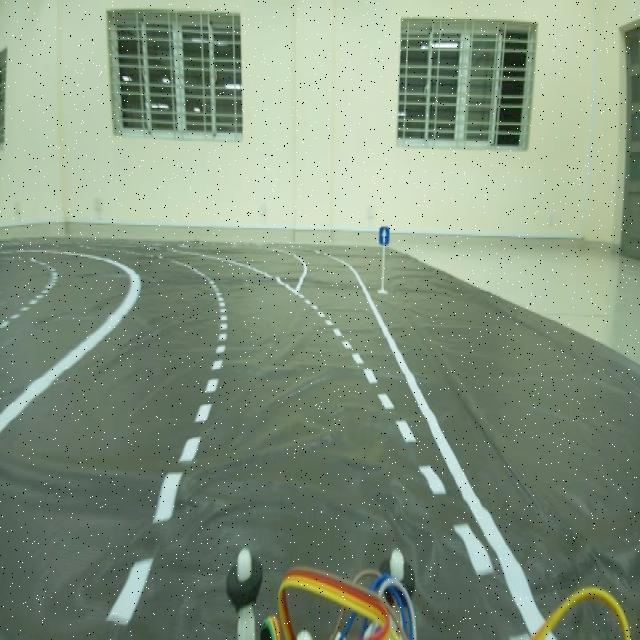onewayroad: (375, 216, 394, 250)
